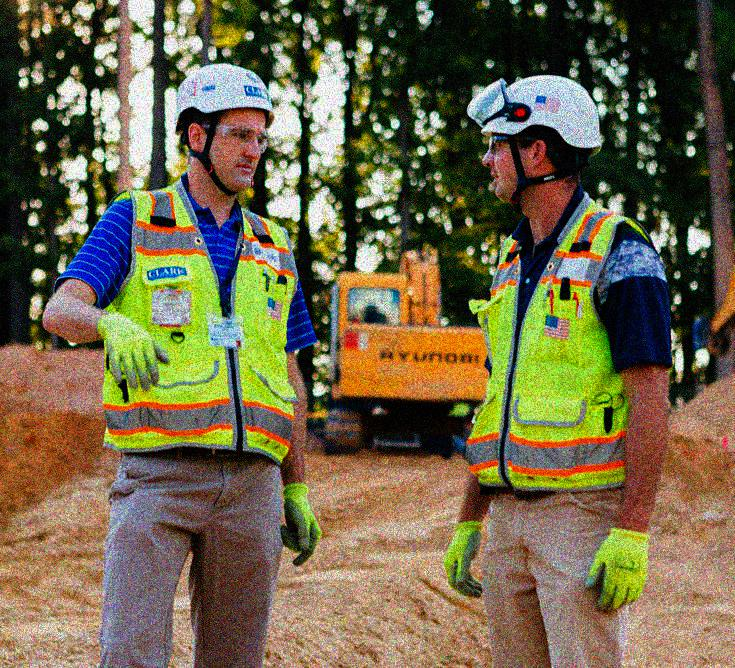helmet: (474, 74, 607, 208), (171, 61, 278, 203)
